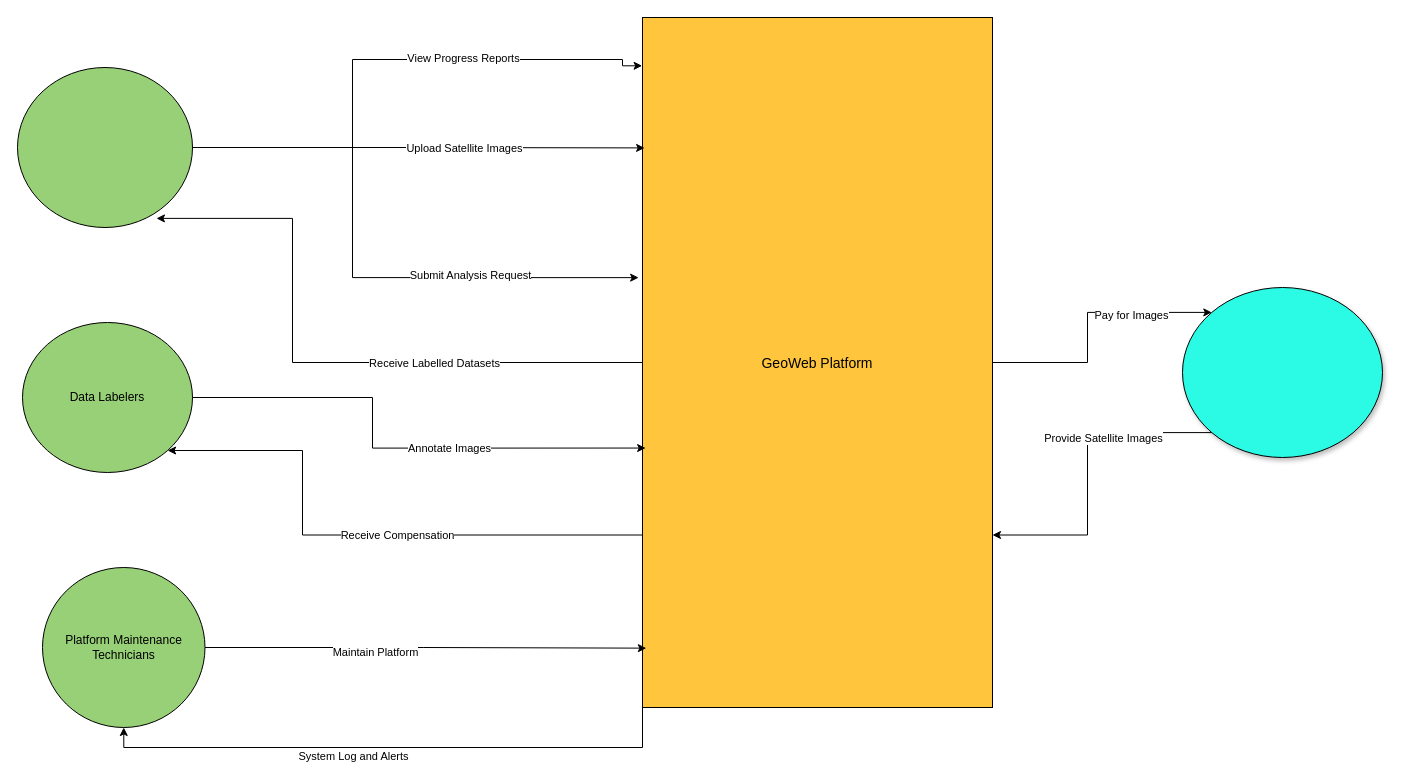
This 1406x780 diagram has some shape labels left out. The shapes that lost their labels are listed below. From the top down, each one's centre as x and y in pixels, then its label:
pixel 104 147: Customers (e.g., NGOs, Companies)
pixel 1283 373: Satellite Image Providers
